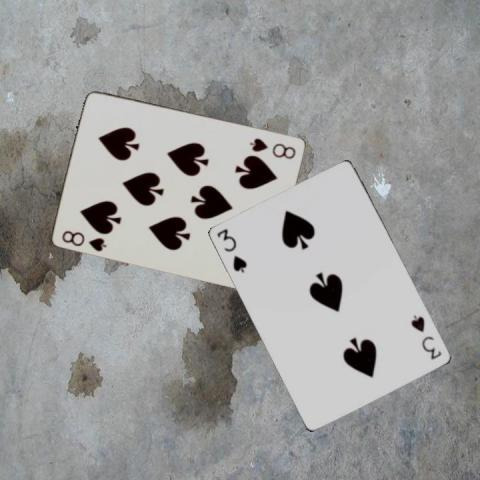3s: (214, 225, 249, 275), (409, 312, 443, 361)
8s: (247, 134, 297, 161), (59, 227, 108, 253)
